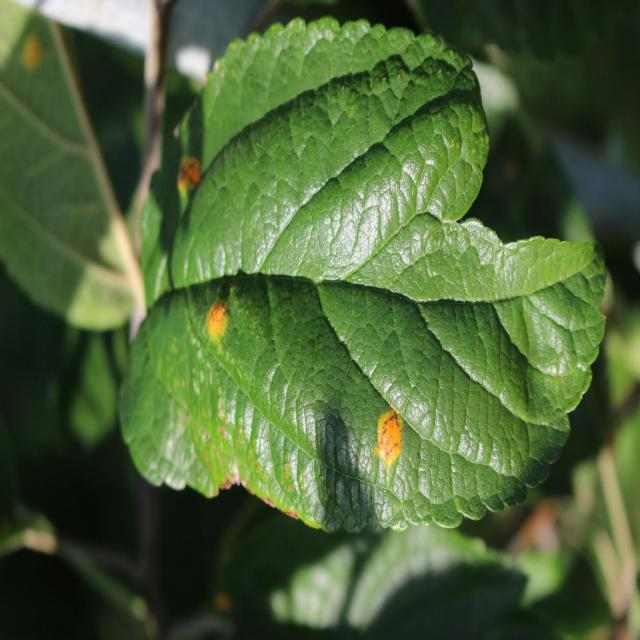Rust: (372, 401, 406, 482), (21, 32, 60, 83), (204, 291, 234, 350), (172, 146, 206, 196)
